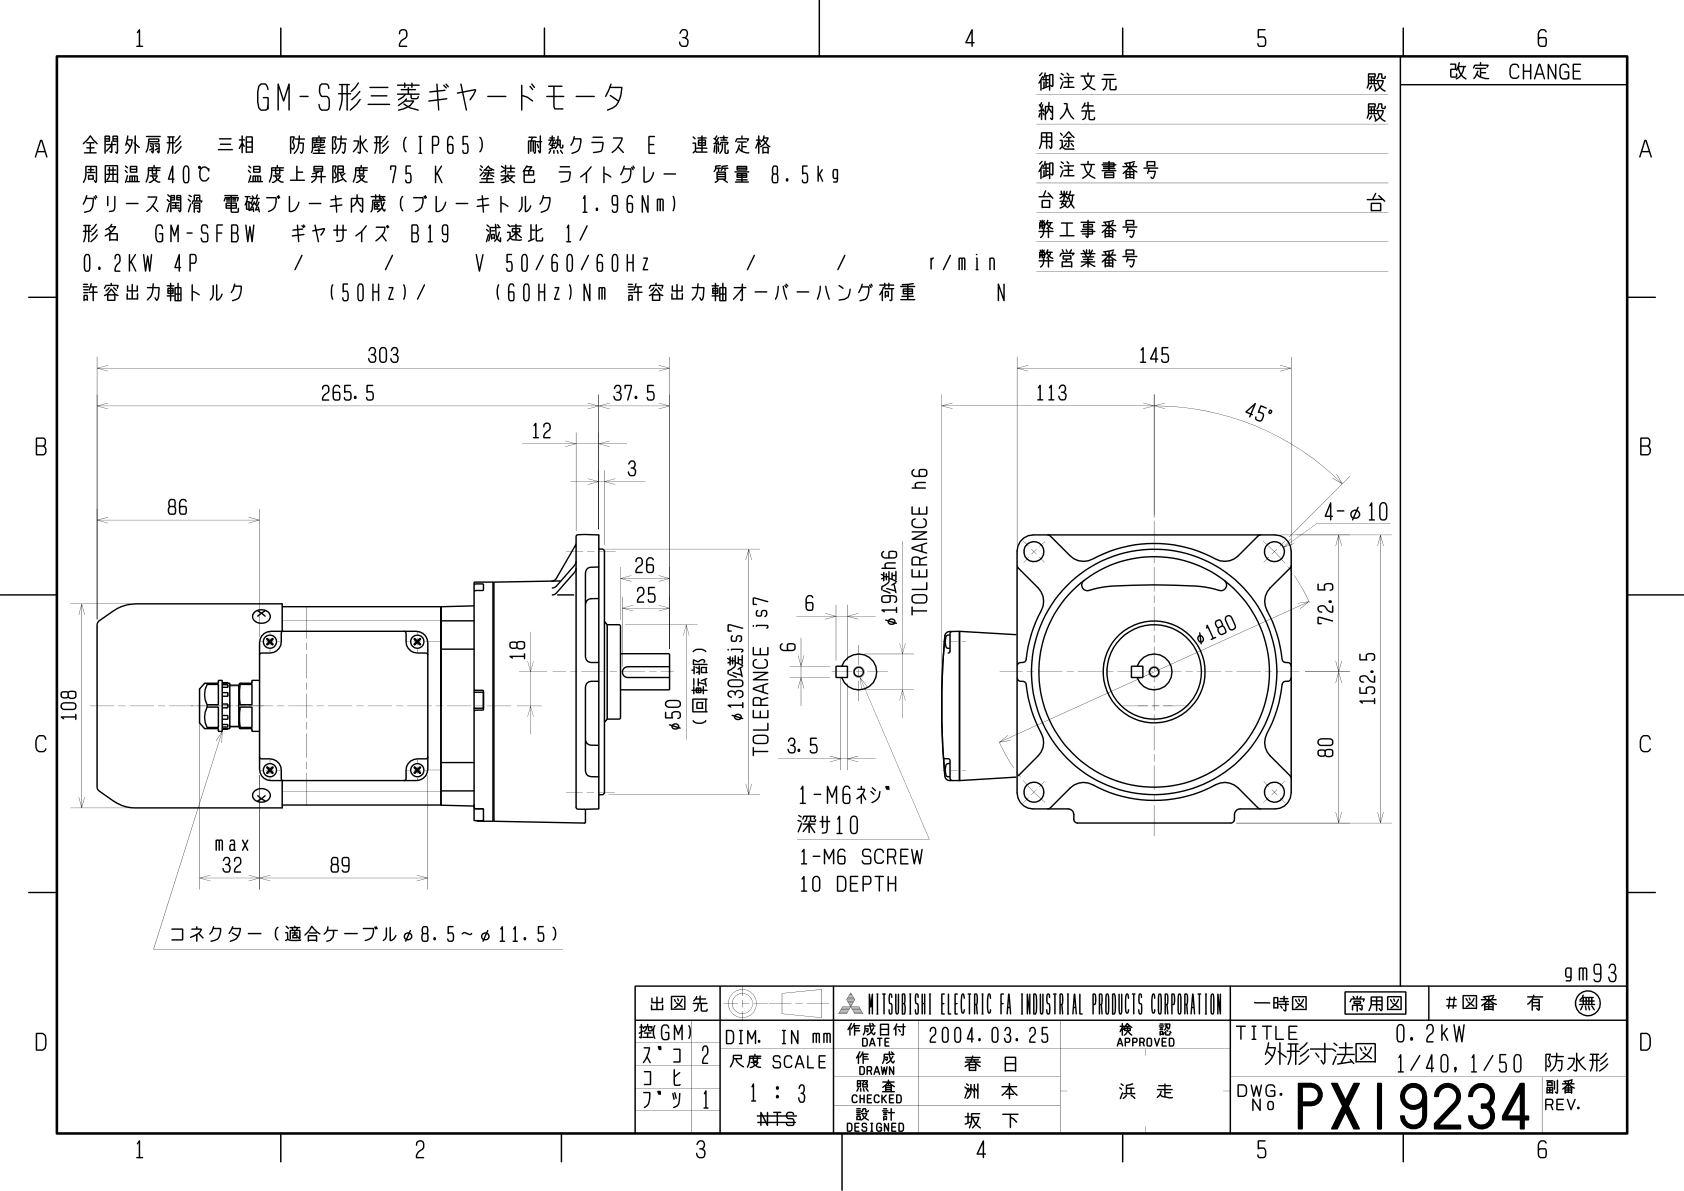GM_S_IP65＿三相_フランジ: (1, 1, 1678, 1179)
